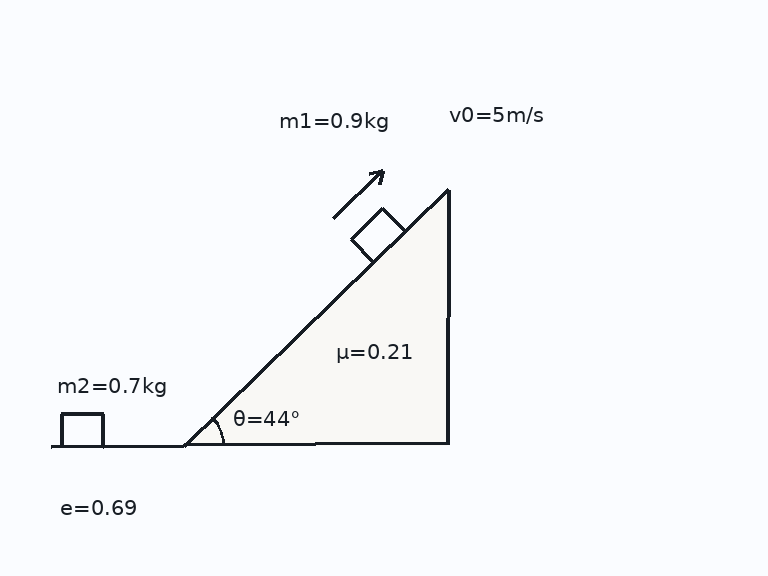block: (348, 206, 406, 264), (59, 412, 105, 447)
ramp: (181, 188, 449, 447)
